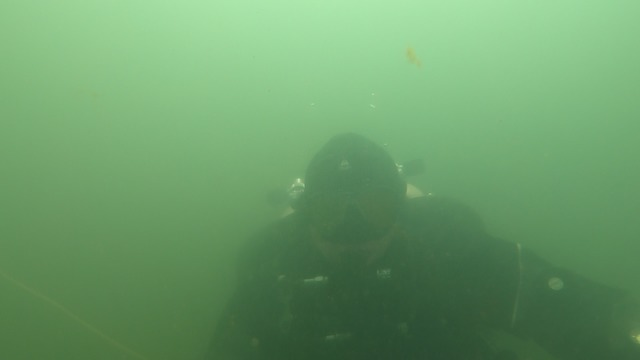Diver: (212, 133, 637, 357)
Head: (308, 139, 420, 278)
